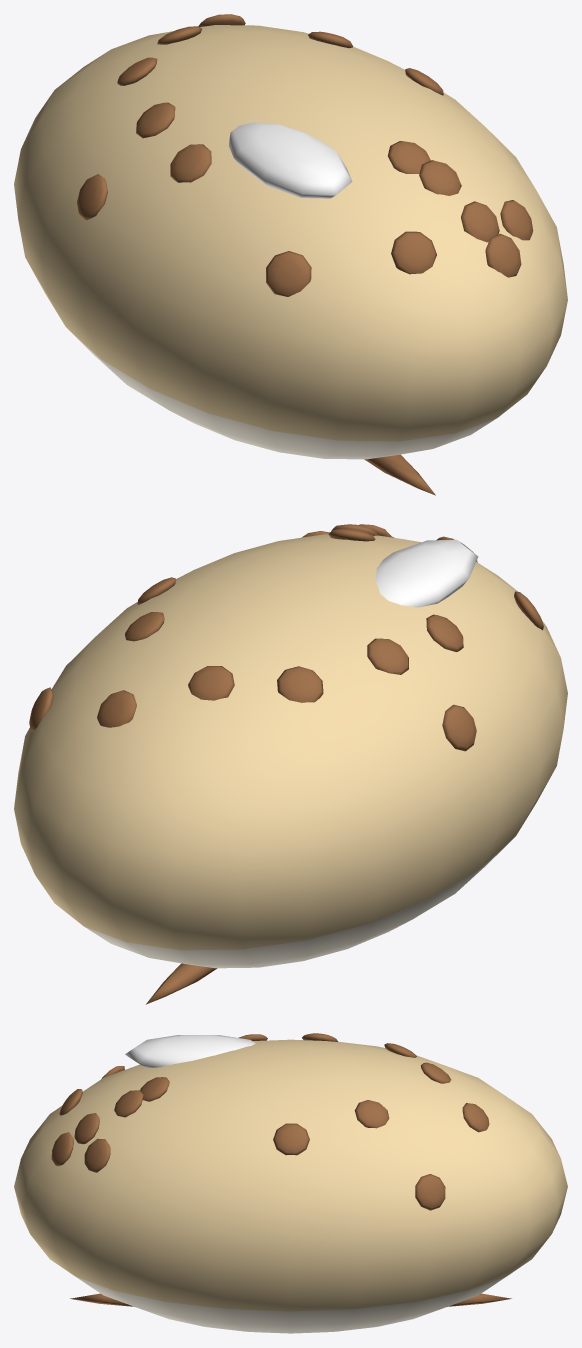
Rendered from shell-cowrie.glb.
The picture shows the model from 3 angles, top to bottom: view 1: azimuth 30°, elevation 25°; view 2: azimuth 150°, elevation 25°; view 3: azimuth 270°, elevation 25°; orthographic projection. The views are drawn at different scales.
Parts seen in each view (by area): view 1: shell; view 2: shell; view 3: shell.
Part boxes in pixels (bbox=[...]): shell: bbox=[14, 14, 567, 495]; shell: bbox=[14, 524, 567, 1004]; shell: bbox=[14, 1033, 567, 1333].
Size of the model in its own units: 0.2 by 0.15 by 0.3.
